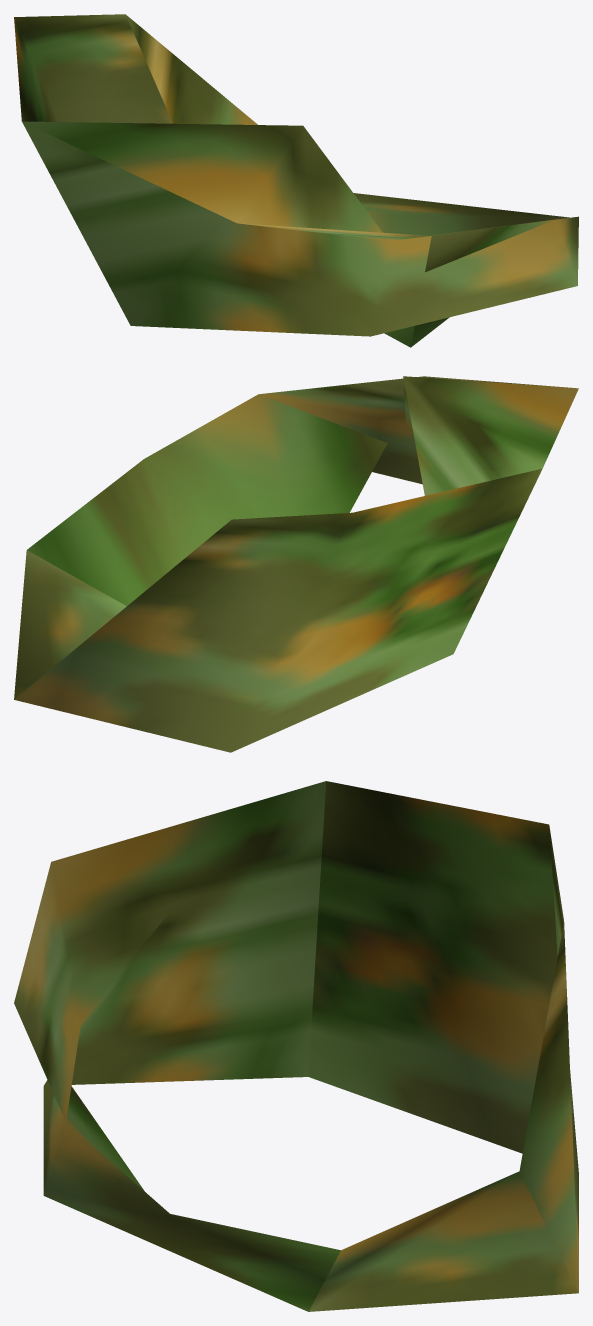
Rendered from batch_0109.obj.
3 renders of one model, top to bottom at view 1: azimuth 30°, elevation 25°; view 2: azimuth 150°, elevation 25°; view 3: azimuth 270°, elevation 25°, orthographic. The views are drawn at different scales.
Parts seen in each view (by area): view 1: batch_0109; view 2: batch_0109; view 3: batch_0109.
Part boxes in pixels (x1=…): batch_0109: x1=14, y1=14, x2=578, y2=347; batch_0109: x1=14, y1=376, x2=578, y2=752; batch_0109: x1=14, y1=781, x2=578, y2=1311.
Bounding box in the file's own units: 22.95 × 11.25 × 19.
Materials: 1 (1 with a texture image).
